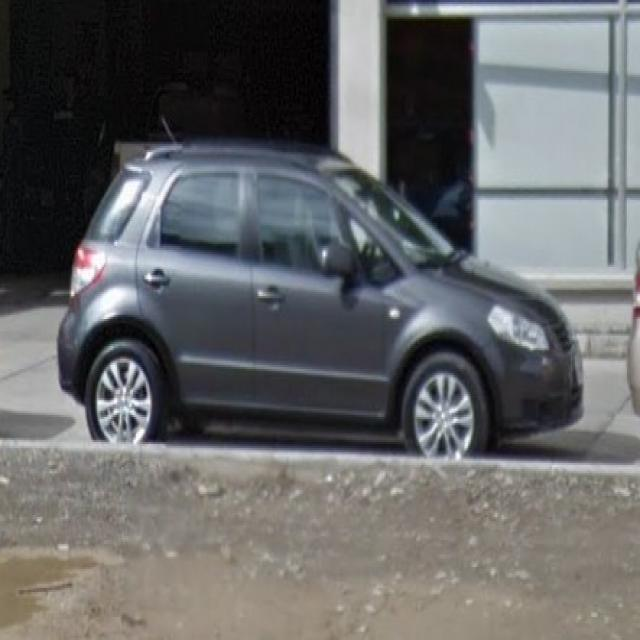cars: (57, 144, 590, 455)
